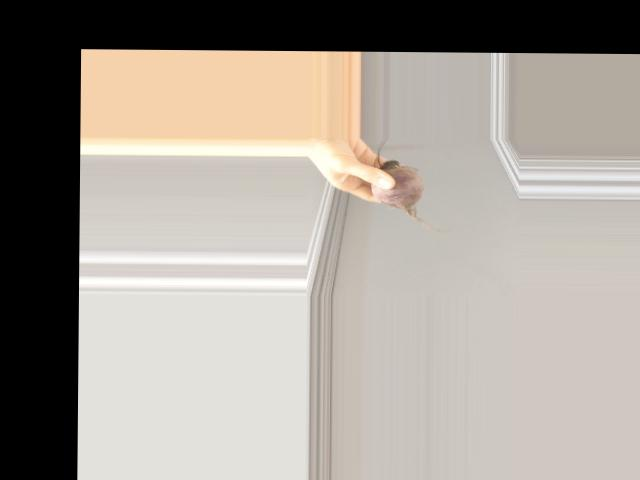beet: (371, 137, 451, 232)
